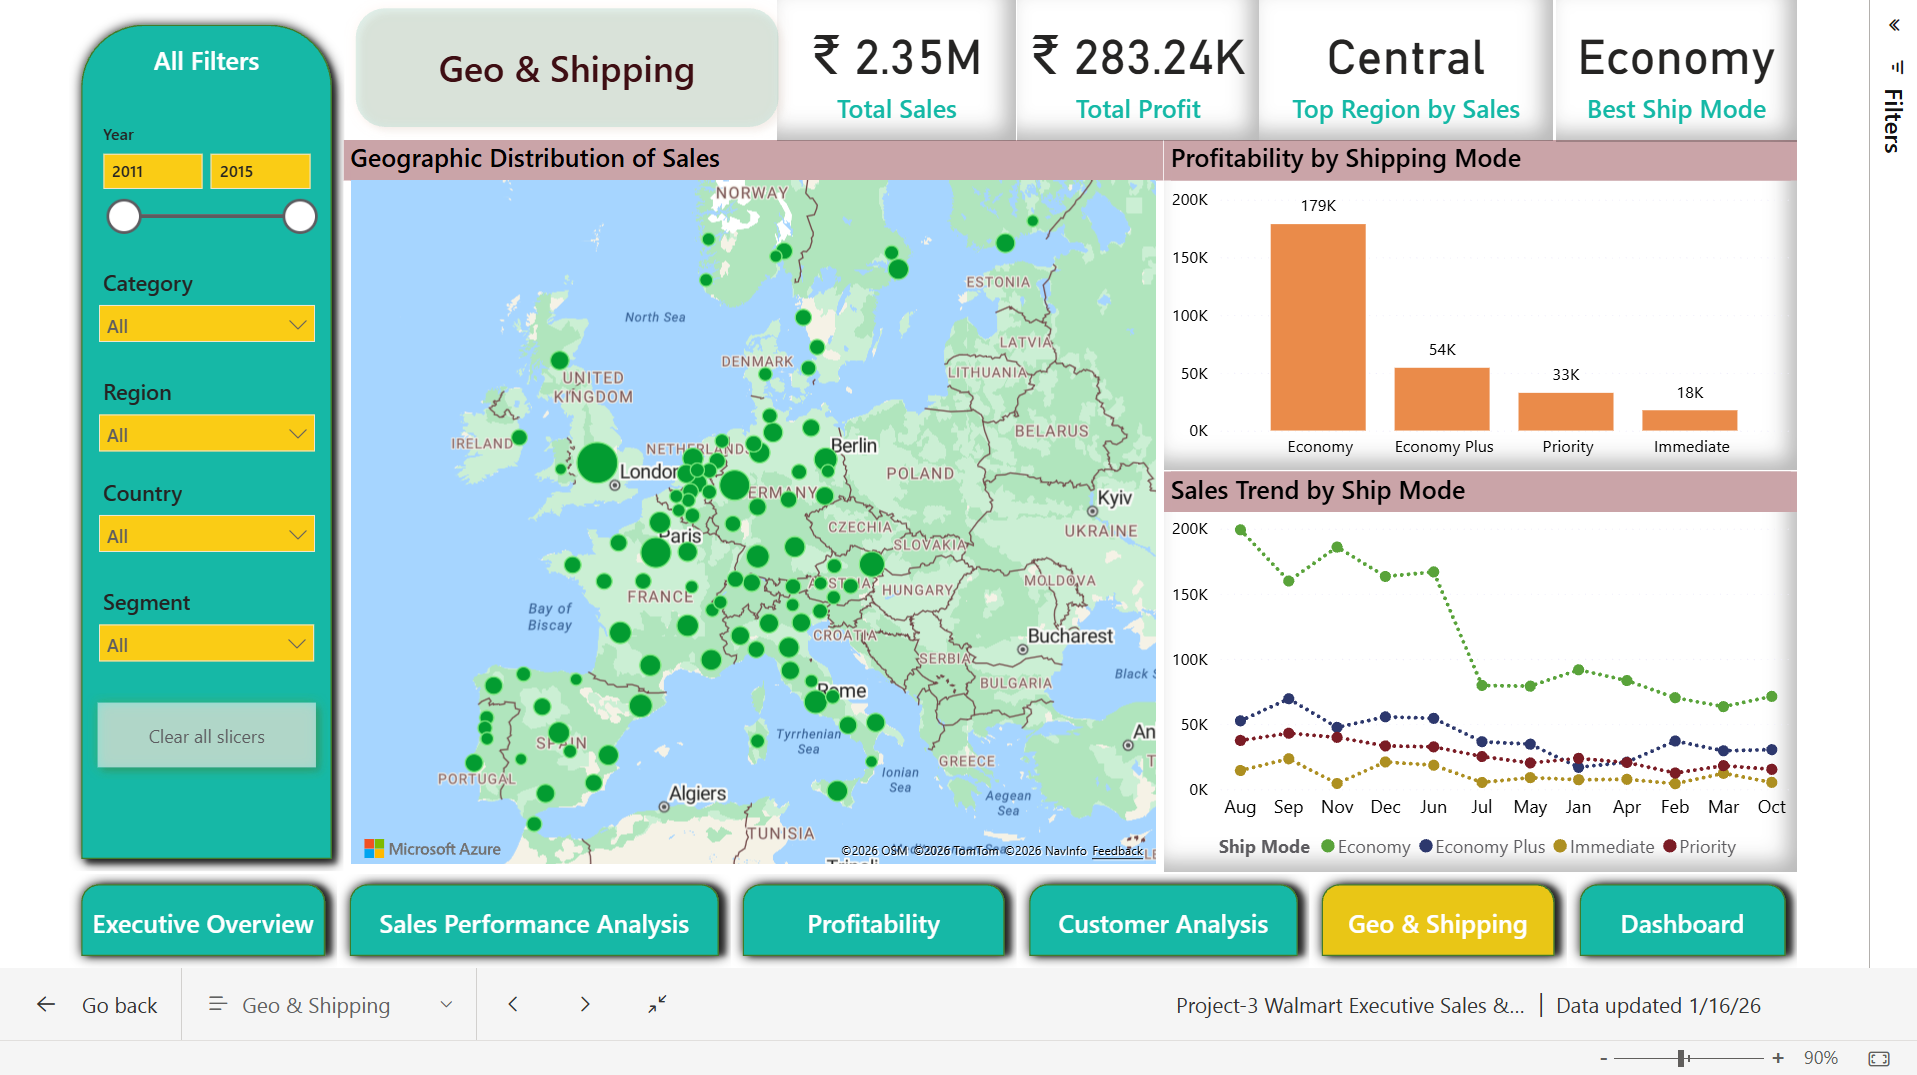

This screenshot's page, from the dashboard's own definition file:
{"tool":"powerbi","page":{"name":"Geo & Shipping","canvas":[1280,720],"ordinal":4},"visuals":[{"type":"shape","box":[0,12.3,203.7,636.1],"z":0,"group":"g1"},{"type":"group","id":"g1","title":"Group 1","box":[0,12.3,203.7,637.9],"z":0,"group":"g2"},{"type":"shape","box":[0,649.3,198.8,71.2],"z":0},{"type":"slicer","fields":{"Values":["Dim_Date.Year"]},"box":[11.9,88.8,180,97.3],"z":1000,"group":"g1"},{"type":"slicer","fields":{"Values":["Dim_Customer.Segment"]},"box":[12.3,432.1,179,94.7],"z":1000,"group":"g2"},{"type":"shape","box":[198.8,649.3,291.5,71.2],"z":1000},{"type":"slicer","fields":{"Values":["Dim_Product.Category"]},"box":[12.3,195.8,179.7,89.2],"z":2000,"group":"g1"},{"type":"shape","box":[490.3,649.3,212,71.2],"z":2000},{"type":"slicer","fields":{"Values":["Dim_Customer.Region"]},"box":[12.3,276.6,179.7,85],"z":3000,"group":"g1"},{"type":"shape","box":[702.3,649.3,217,71.2],"z":3000},{"type":"slicer","fields":{"Values":["Dim_Customer.Country"]},"box":[12.3,350.9,179.7,87.1],"z":4000,"group":"g1"},{"type":"shape","box":[919.3,649.3,190.5,71.2],"z":4000},{"type":"actionButton","box":[12.3,514.6,179.7,65.9],"z":5000,"group":"g1"},{"type":"shape","box":[1109.8,649.3,170.6,71.2],"z":5000},{"type":"group","id":"g2","title":"Group 2","box":[0,12.3,203.7,637.9],"z":6000},{"type":"map","title":"Geographic Distribution of Sales","fields":{"Category":["Dim_Customer.Country","Dim_Customer.State"],"Size":["Fact_Sales.Total Sales"]},"box":[203.7,107,607.1,541.2],"z":6001},{"type":"lineChart","title":"Sales Trend by Ship Mode","fields":{"Category":["Dim_Date.Month Name"],"Series":["Fact_Sales.Ship Mode"],"Y":["Fact_Sales.Total Sales"]},"box":[810.8,351.9,469.2,296.3],"z":6002},{"type":"clusteredColumnChart","title":"Profitability by Shipping Mode","fields":{"Category":["Dim_Shipmode.Ship Mode"],"Y":["Fact_Sales.Total Profit"]},"box":[810.8,107,469.2,244.9],"z":6003},{"type":"card","fields":{"Values":["Fact_Sales.Total Sales"]},"box":[524.8,0,177,107],"z":6004},{"type":"card","fields":{"Values":["Fact_Sales.Total Profit"]},"box":[701.7,0,179,107],"z":6005},{"type":"card","fields":{"Values":["Fact_Sales.Top Region by Sales"]},"box":[880.8,0,218.1,107],"z":6006},{"type":"card","fields":{"Values":["Fact_Sales.Best Ship Mode"]},"box":[1101.6,0,178.9,107.7],"z":6007},{"type":"shape","box":[203.7,0,331.3,106],"z":6008}]}

Visuals, with their boxes on the page's 1280x720 design canvas (x1, y1, x2, y2). These are canvas units, not pixel positions in the 1917x1075 screenshot, which may show the page scaled, cropped or inside an application window:
shape: <region>0, 12, 204, 648</region>
"Group 1" group: <region>0, 12, 204, 650</region>
shape: <region>0, 649, 199, 720</region>
slicer - Dim_Date.Year: <region>12, 89, 192, 186</region>
slicer - Dim_Customer.Segment: <region>12, 432, 191, 527</region>
shape: <region>199, 649, 490, 720</region>
slicer - Dim_Product.Category: <region>12, 196, 192, 285</region>
shape: <region>490, 649, 702, 720</region>
slicer - Dim_Customer.Region: <region>12, 277, 192, 362</region>
shape: <region>702, 649, 919, 720</region>
slicer - Dim_Customer.Country: <region>12, 351, 192, 438</region>
shape: <region>919, 649, 1110, 720</region>
actionButton: <region>12, 515, 192, 580</region>
shape: <region>1110, 649, 1280, 720</region>
"Group 2" group: <region>0, 12, 204, 650</region>
"Geographic Distribution of Sales" map: <region>204, 107, 811, 648</region>
"Sales Trend by Ship Mode" lineChart: <region>811, 352, 1280, 648</region>
"Profitability by Shipping Mode" clusteredColumnChart: <region>811, 107, 1280, 352</region>
card - Fact_Sales.Total Sales: <region>525, 0, 702, 107</region>
card - Fact_Sales.Total Profit: <region>702, 0, 881, 107</region>
card - Fact_Sales.Top Region by Sales: <region>881, 0, 1099, 107</region>
card - Fact_Sales.Best Ship Mode: <region>1102, 0, 1280, 108</region>
shape: <region>204, 0, 535, 106</region>
